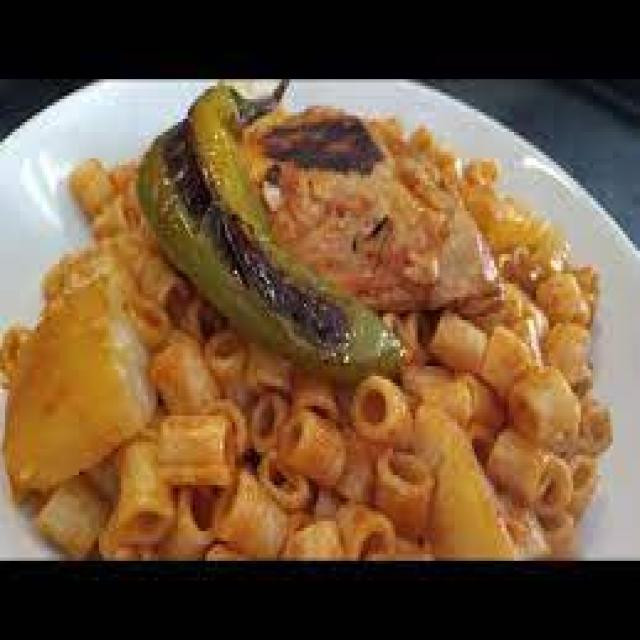Pasta: (46, 68, 577, 557)
